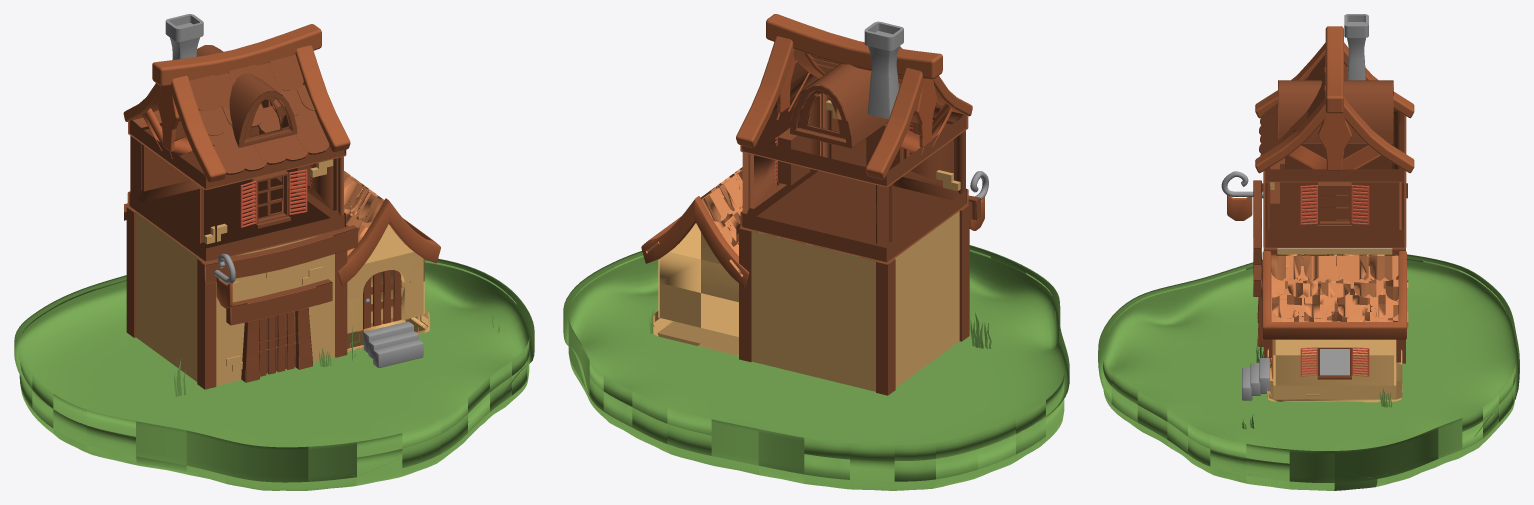
File: tavern housee.glb
The picture shows the model from 3 angles, left to right: view 1: azimuth 30°, elevation 25°; view 2: azimuth 150°, elevation 25°; view 3: azimuth 270°, elevation 25°; orthographic projection. The views are drawn at different scales.
Parts seen in each view (by area): view 1: Circle.001, Circle, Cube.007, Cube, Cube.003, Cube.015, Cube.014, Cube.002, Cube.006, Cube.005, Cylinder, Cube.017 (+17 smaller); view 2: Circle.001, Cube.007, Circle, Cube, Cube.015, Cube.003, Cube.014, Cylinder, Cube.002, Cube.005, Cube.004, Cube.017 (+5 smaller); view 3: Circle.001, Circle, Cube.024, Cube, Cube.015, Cylinder, Cube.003, Cube.017, Cube.005, Cube.004, Cube.002, Plane.005 (+12 smaller).
Part boxes in pixels (<box>): Circle.001: <box>14,250,534,475</box>; Circle: <box>19,252,529,490</box>; Cube.007: <box>136,213,335,385</box>; Cube: <box>124,99,348,248</box>; Cube.003: <box>123,45,350,182</box>; Cube.015: <box>278,224,430,351</box>; Cube.014: <box>126,207,347,389</box>; Cube.002: <box>152,24,321,86</box>; Cube.006: <box>201,225,358,283</box>; Cube.005: <box>127,191,346,261</box>; Cylinder: <box>196,45,297,147</box>; Cube.017: <box>286,198,440,286</box>; Circle.001: <box>563,245,1069,444</box>; Cube.007: <box>752,211,959,391</box>; Circle: <box>568,250,1064,490</box>; Cube: <box>736,55,972,248</box>; Cube.015: <box>652,223,812,355</box>; Cube.003: <box>736,36,972,179</box>; Cube.014: <box>739,204,969,395</box>; Cylinder: <box>790,46,902,148</box>; Cube.002: <box>766,14,942,79</box>; Cube.005: <box>740,188,968,262</box>; Cube.004: <box>740,114,968,186</box>; Cube.017: <box>641,196,804,287</box>; Circle.001: <box>1098,254,1519,477</box>; Circle: <box>1103,258,1515,490</box>; Cube.024: <box>1271,254,1408,328</box>; Cube: <box>1262,108,1407,235</box>; Cube.015: <box>1267,339,1402,402</box>; Cylinder: <box>1278,80,1393,143</box>; Cube.003: <box>1255,42,1414,173</box>; Cube.017: <box>1262,251,1406,339</box>; Cube.005: <box>1263,181,1406,248</box>; Cube.004: <box>1263,115,1406,182</box>; Cube.002: <box>1325,26,1343,113</box>; Plane.005: <box>1317,64,1351,170</box>.
Bounding box in the file's own units: 322 × 266 × 287.
